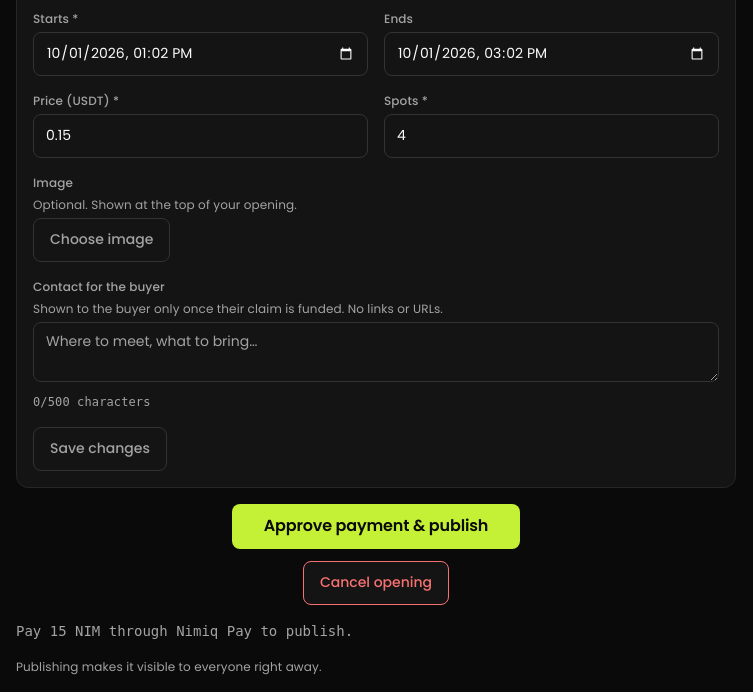
Test: NIM listing fee publish flow › offers a de-emphasized new-payment hatch on a fatal hash, restoring approve
(page scrolled)
Click the button "Approve payment & publish": {"x": 376, "y": 526} [232, 504, 520, 549]
(page scrolled)
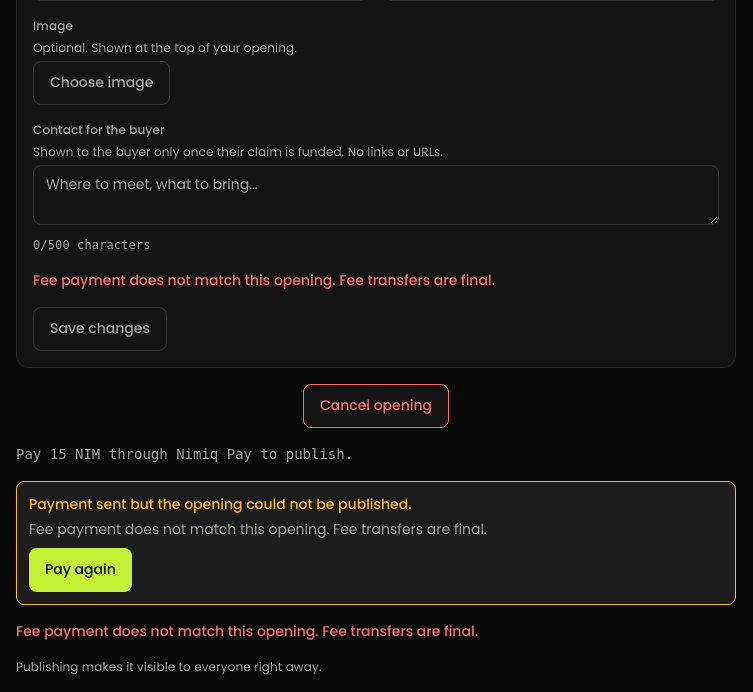
Expected: the button "Approve payment & publish" is gone
Click the button "Pay again": {"x": 80, "y": 570} [29, 548, 132, 592]
(page scrolled)
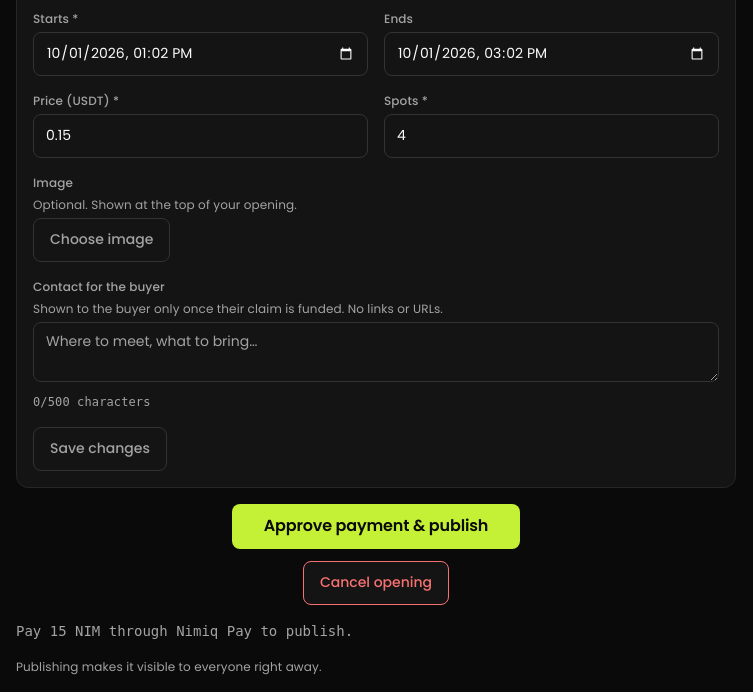
Expected: the button "Approve payment & publish" is shown, [232, 504, 520, 549]
